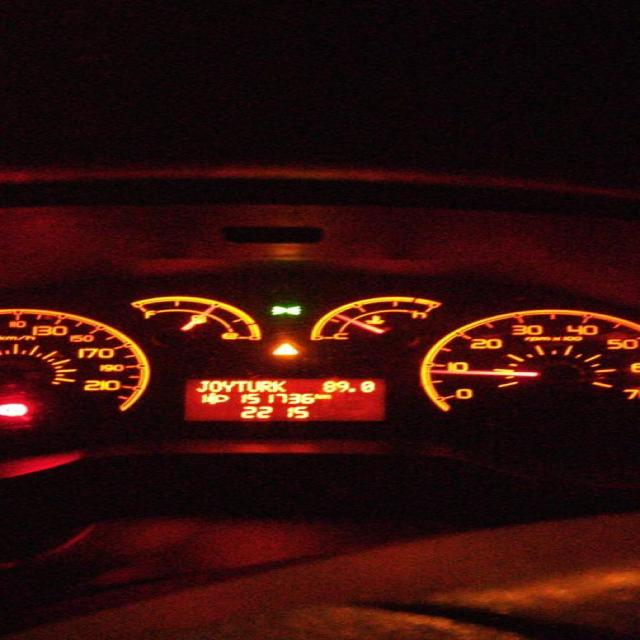odometer: (175, 375, 394, 424)
